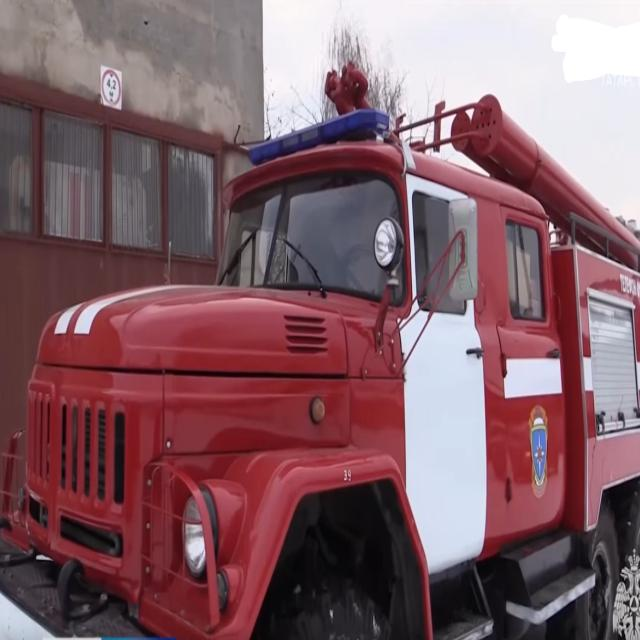fire fighting vehicle: (1, 55, 640, 639)
